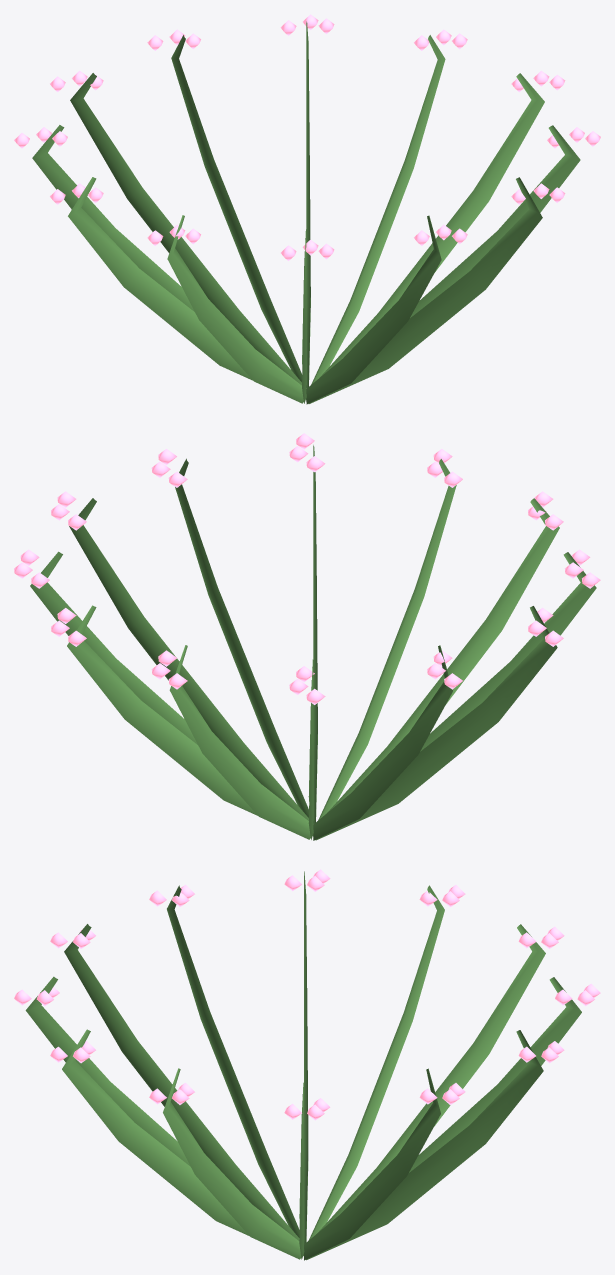
File: carnivorous_sundew.glb
The picture shows the model from 3 angles, top to bottom: view 1: azimuth 30°, elevation 25°; view 2: azimuth 150°, elevation 25°; view 3: azimuth 270°, elevation 25°; orthographic projection. The views are drawn at different scales.
Parts seen in each view (by area): view 1: Flora_Sundew; view 2: Flora_Sundew; view 3: Flora_Sundew.
Boxes of the visible parts, x1=… form: Flora_Sundew: x1=14, y1=14, x2=600, y2=404; Flora_Sundew: x1=14, y1=433, x2=600, y2=840; Flora_Sundew: x1=14, y1=869, x2=600, y2=1260.
Bounding box in the file's own units: 0.5211 × 0.2762 × 0.521.
